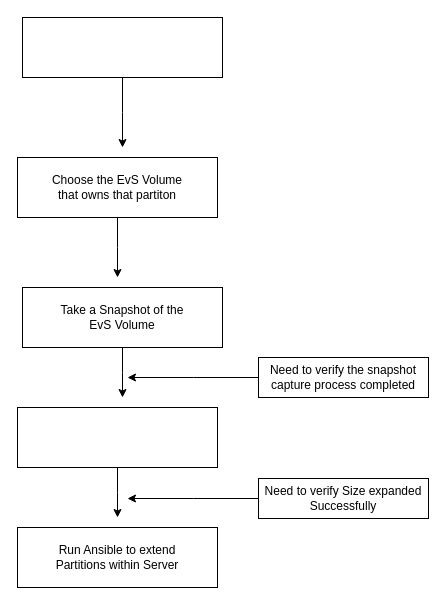
Some shapes in this 446 by 605 pixel diagram are drawn without their labels. Each missing label, with the centre of its shape:
"Expand EvS Volume using API" belongs at [117,437].
"Required to Expand the Server Partition Size" belongs at [122,47].
